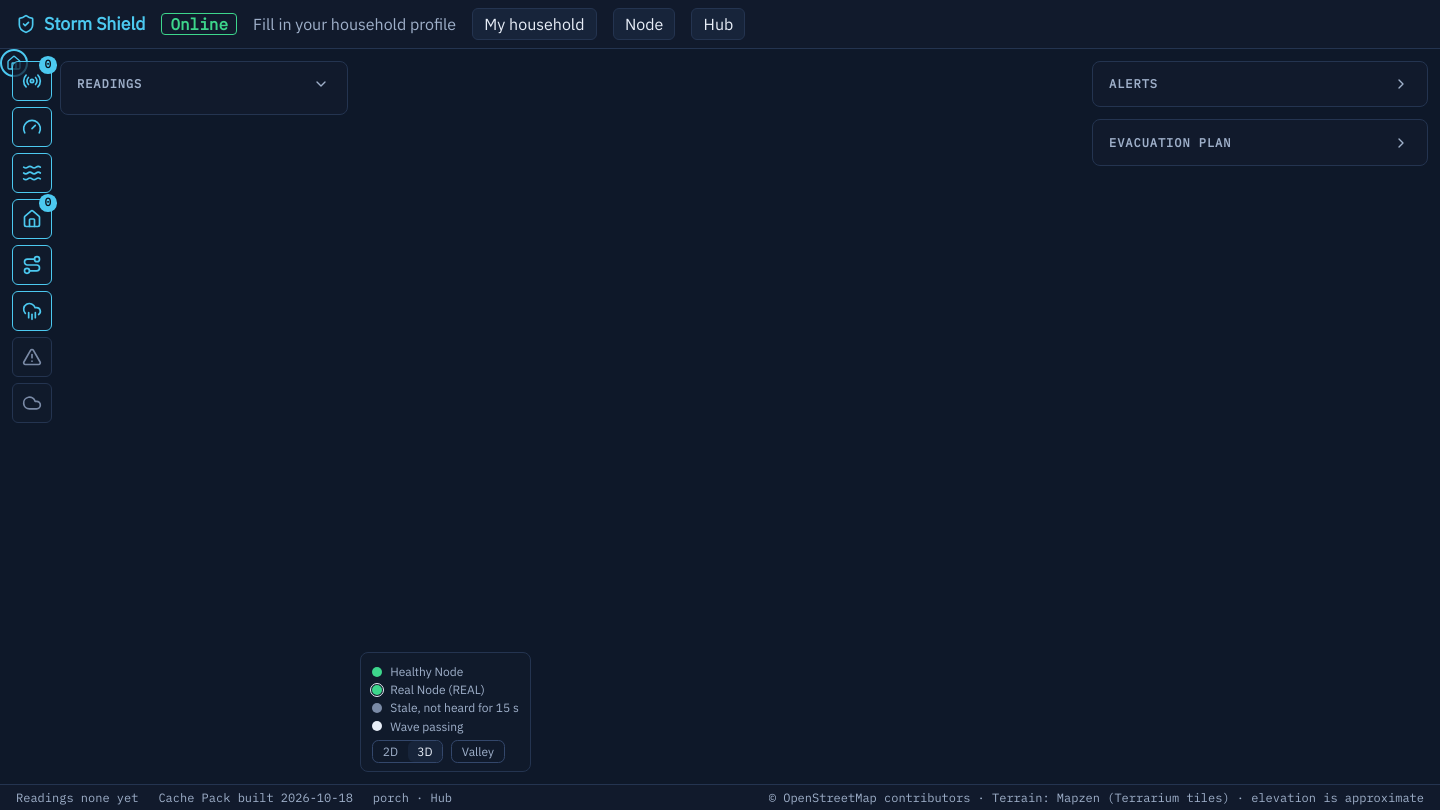
Test: Weather layers on the map › with no Replay running › has a slider from now to seven days
This screenshot has width=1440, height=810.
Click the button named "Weather" at (32, 403), box 12,383 -> 52,423
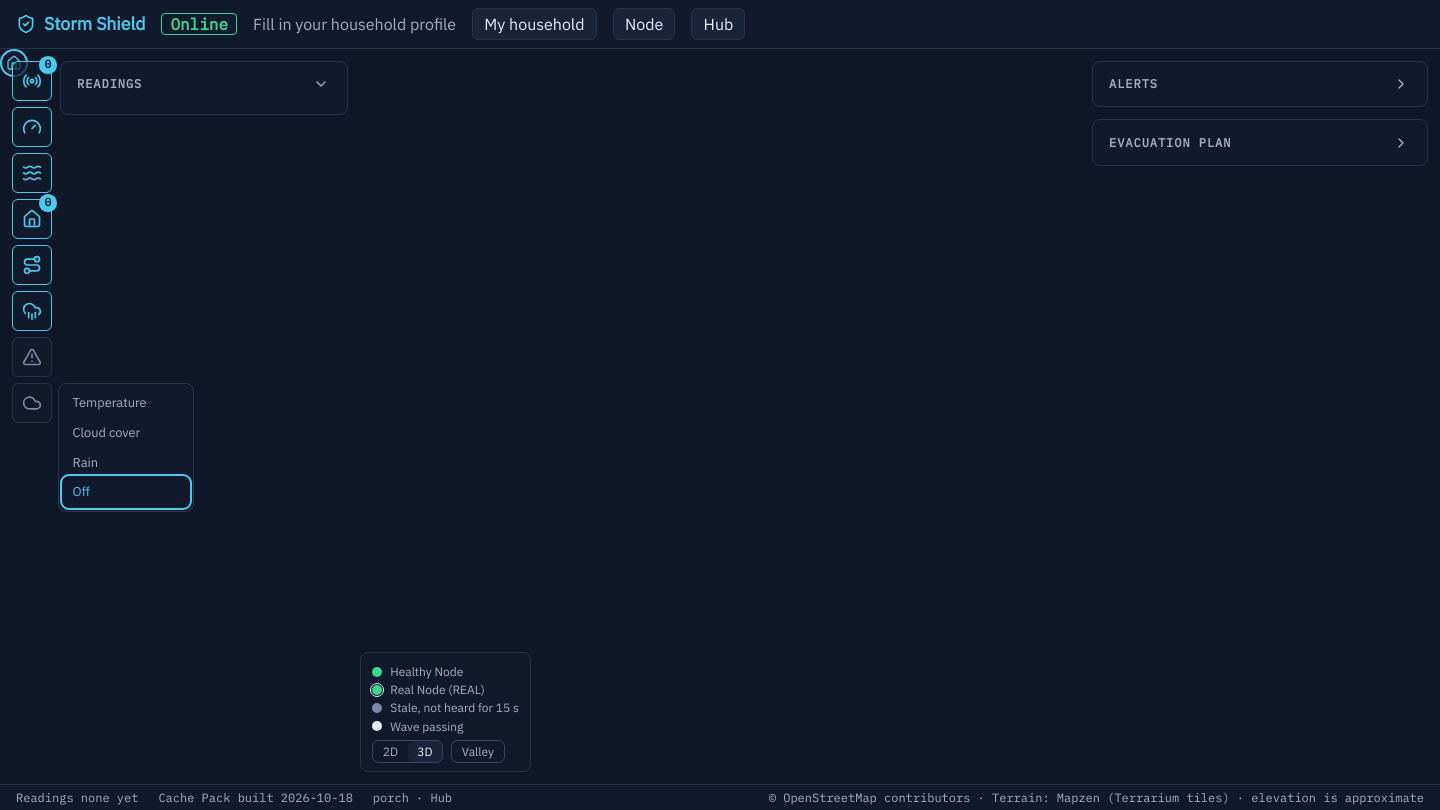
Click the radio button labelled "Rain" at (126, 462), box 63,447 -> 189,477
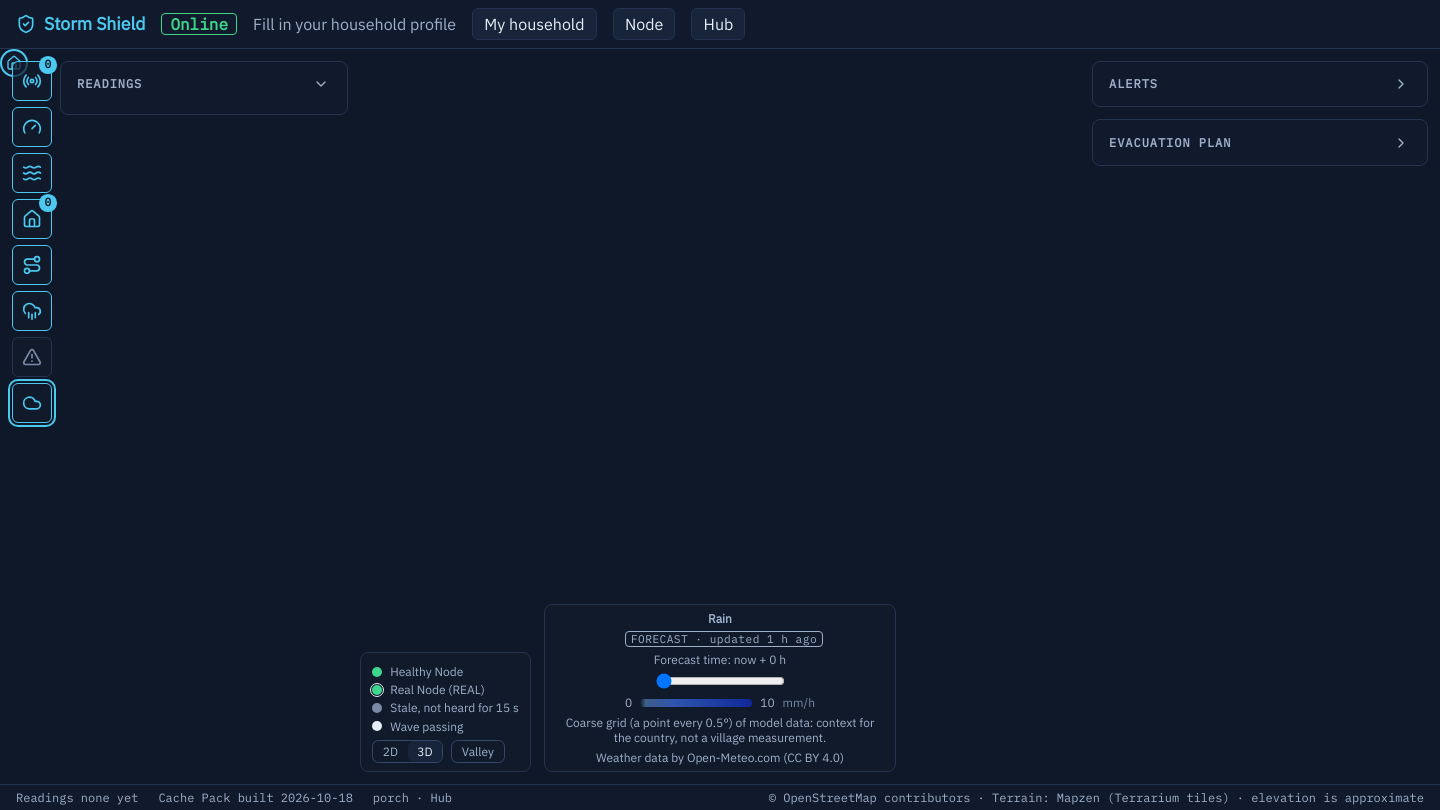
Set the slider to "24" at (680, 681), box 656,673 -> 784,689
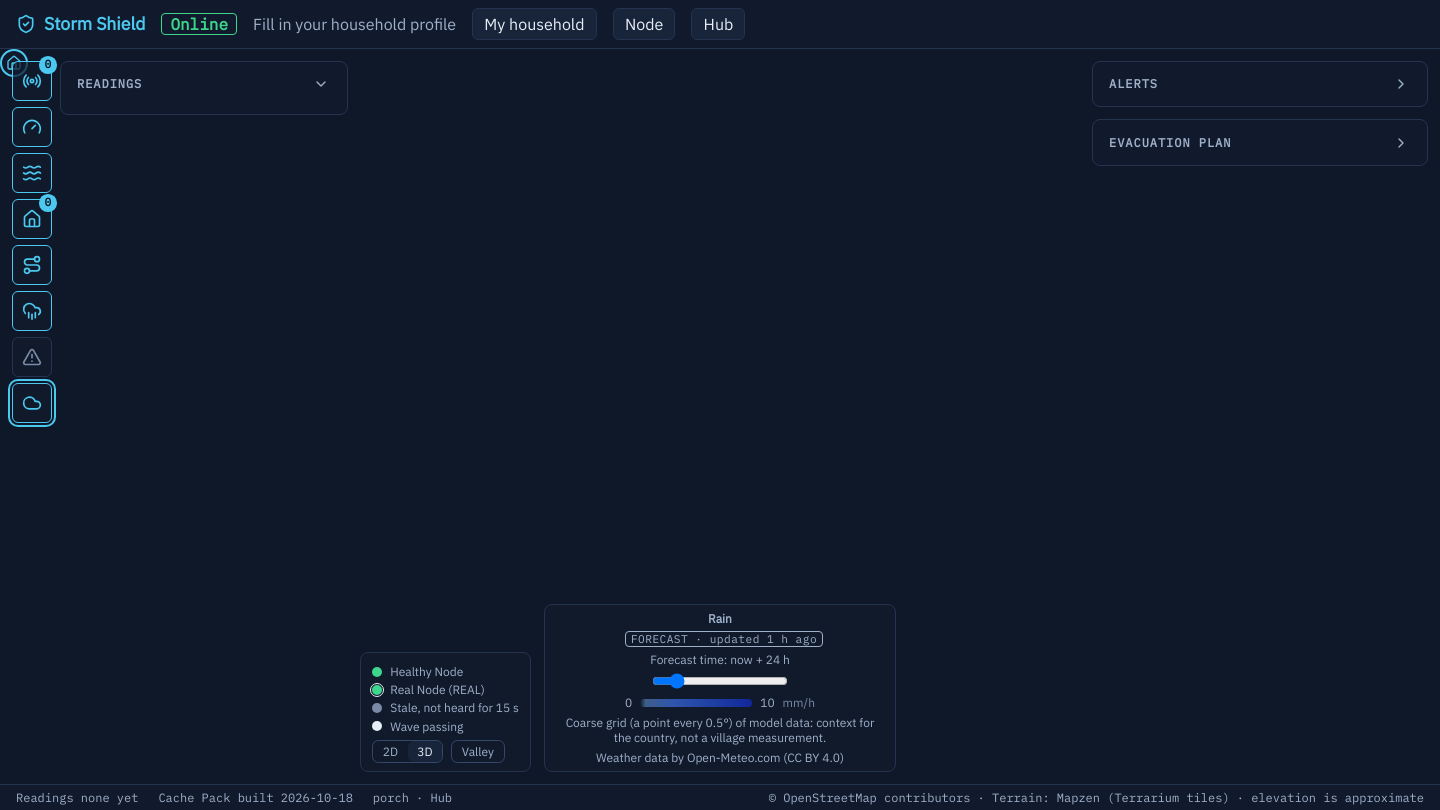
Check: the element named "Weather legend" shows "now + 24 h", box 544,604 -> 896,772
